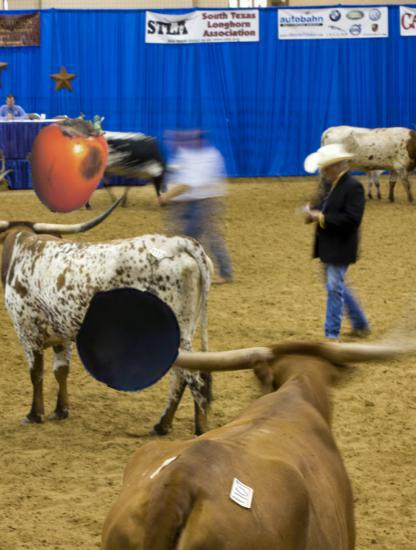Grape: (77, 287, 181, 391)
Kaki: (14, 110, 119, 215)
